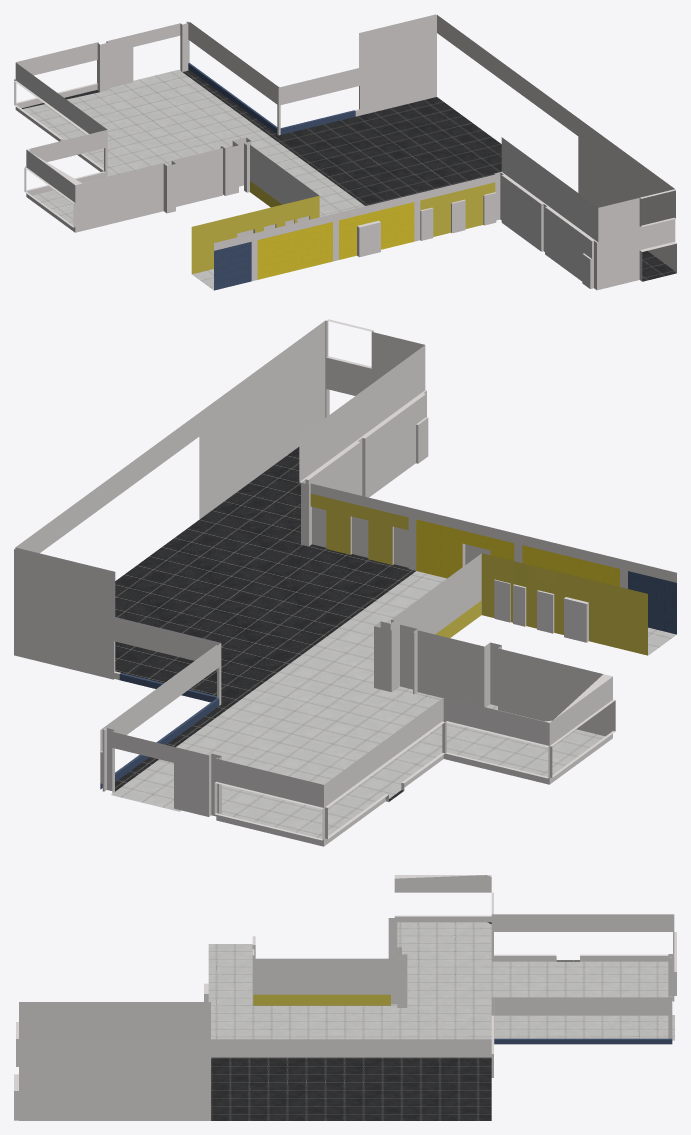
File: SW_corridor__R_lobby_R_Aula_walls.FBX
3 renders of one model, top to bottom at view 1: azimuth 30°, elevation 25°; view 2: azimuth 150°, elevation 25°; view 3: azimuth 270°, elevation 25°, orthographic. The views are drawn at different scales.
Parts seen in each view (by area): view 1: SW_corridor__R_lobby_R_Aula_walls; view 2: SW_corridor__R_lobby_R_Aula_walls; view 3: SW_corridor__R_lobby_R_Aula_walls.
Part boxes in pixels (x1,y1,x2,y2): SW_corridor__R_lobby_R_Aula_walls: [14, 14, 676, 290]; SW_corridor__R_lobby_R_Aula_walls: [14, 319, 676, 846]; SW_corridor__R_lobby_R_Aula_walls: [14, 875, 676, 1120].
Size of the model in its own units: 3046 by 4274 by 580.
